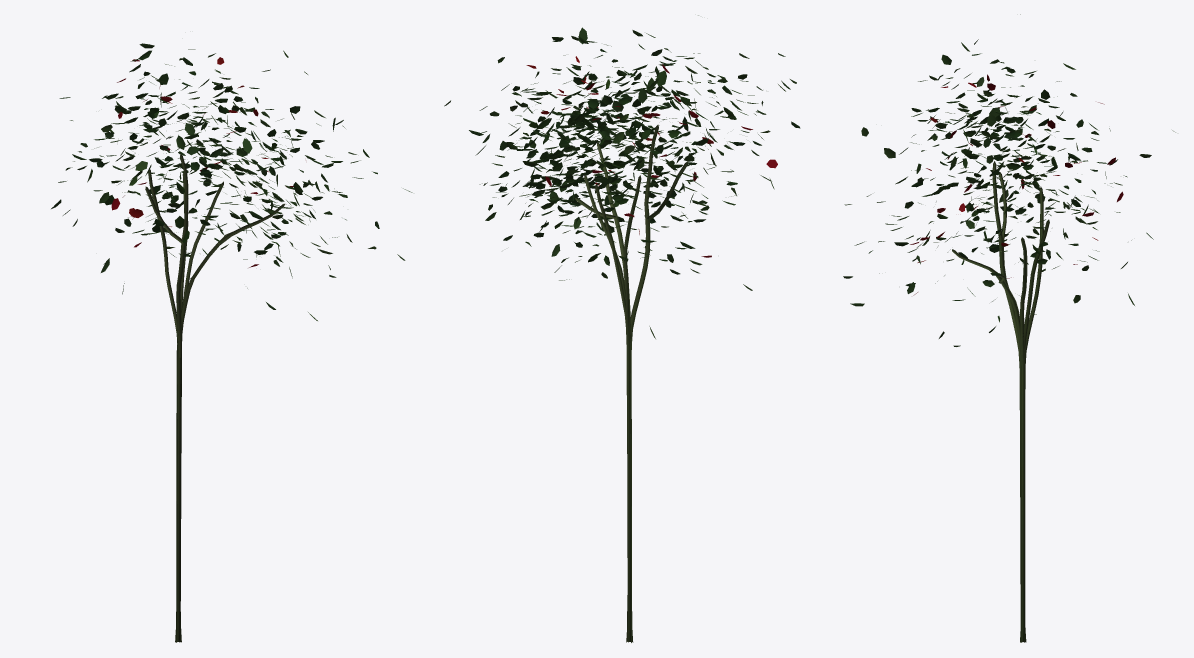
File: SM_Tree_garden_rose_0.glb
3 views of the same model, side by side, from view 1: azimuth 30°, elevation 25°; view 2: azimuth 150°, elevation 25°; view 3: azimuth 270°, elevation 25° (orthographic). The views are drawn at different scales.
Parts seen in each view (by area): view 1: SM_Tree_garden_rose_0; view 2: SM_Tree_garden_rose_0; view 3: SM_Tree_garden_rose_0.
Boxes of the visible parts, bbox=[...] form: SM_Tree_garden_rose_0: bbox=[51, 43, 412, 642]; SM_Tree_garden_rose_0: bbox=[444, 15, 800, 642]; SM_Tree_garden_rose_0: bbox=[843, 14, 1175, 642].
Bounding box in the file's own units: 1.37 × 2.47 × 1.29.
